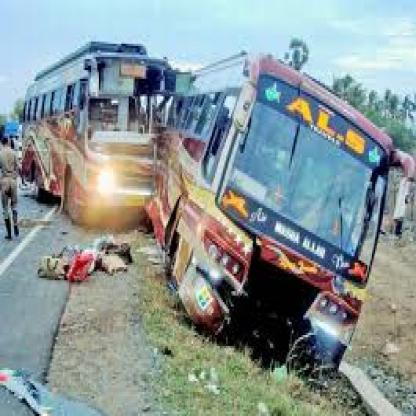accident: (31, 23, 416, 379)
